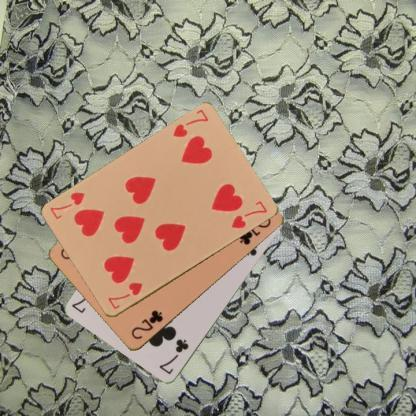2c: (128, 307, 165, 341)
7c: (156, 336, 191, 376)
7h: (170, 107, 210, 140), (105, 280, 144, 310)
